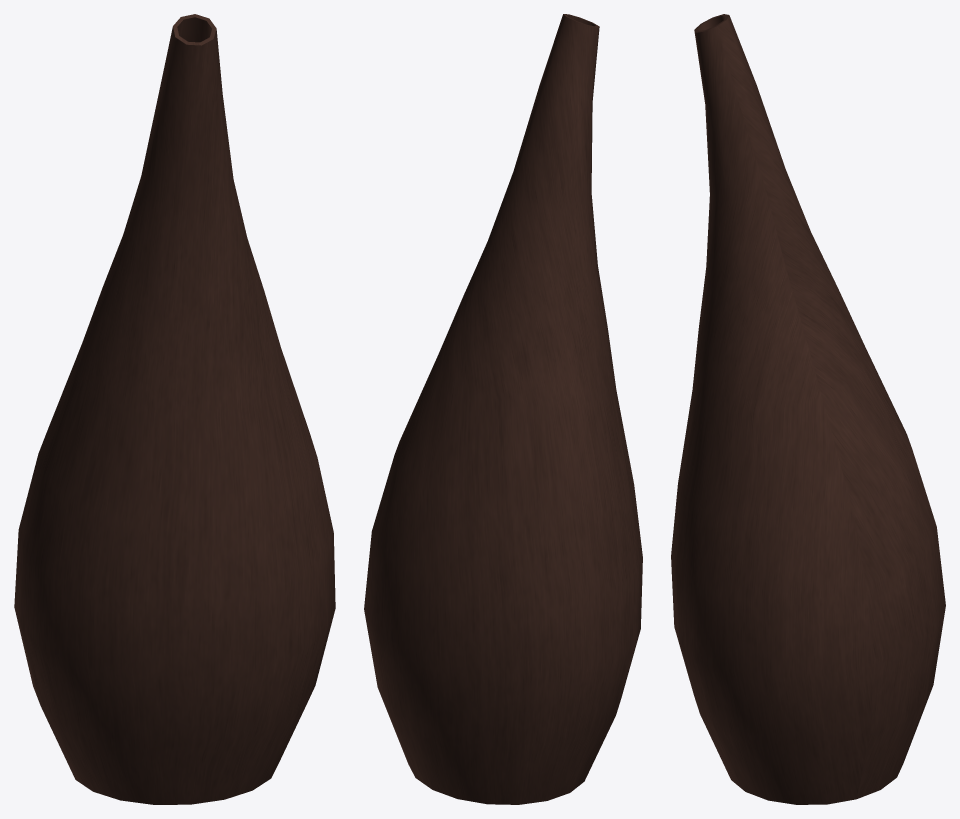
The model's file is VaseDecorativeC.fbx.
3 renders of one model, left to right at view 1: azimuth 30°, elevation 25°; view 2: azimuth 150°, elevation 25°; view 3: azimuth 270°, elevation 25°, orthographic. The views are drawn at different scales.
Parts seen in each view (by area): view 1: VaseDecorativeC; view 2: VaseDecorativeC; view 3: VaseDecorativeC.
Boxes of the visible parts, bbox=[...] form: VaseDecorativeC: bbox=[14, 14, 335, 804]; VaseDecorativeC: bbox=[364, 14, 642, 804]; VaseDecorativeC: bbox=[671, 14, 945, 804].
Size of the model in its own units: 23.79 by 65.98 by 22.43.
